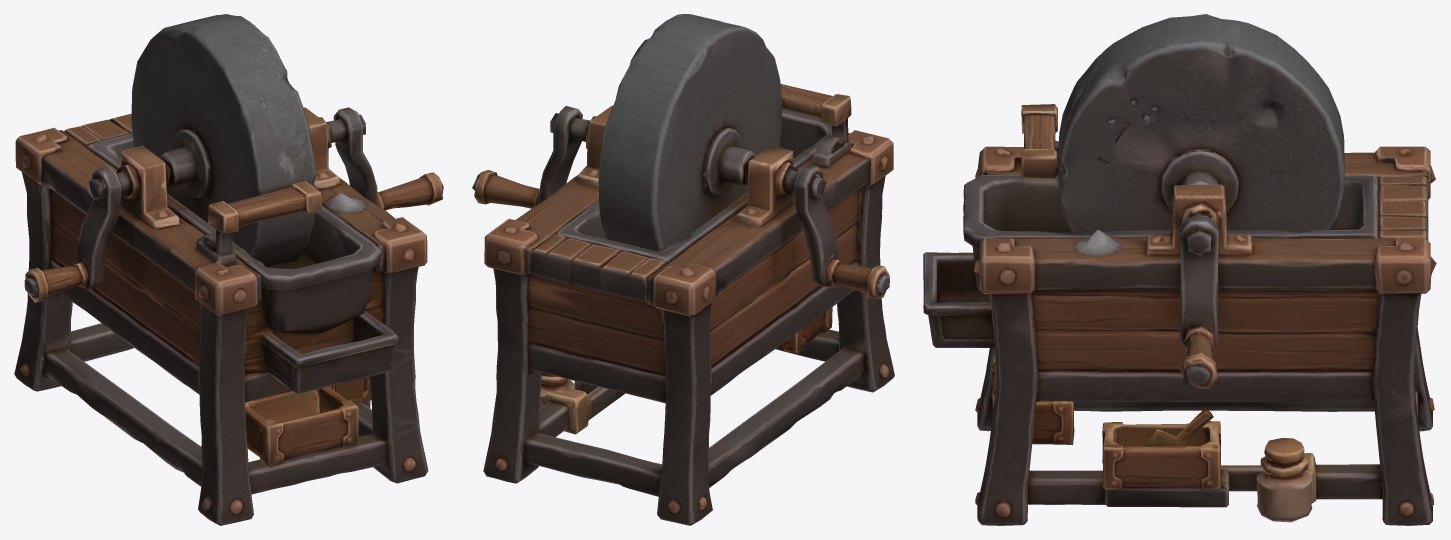
File: Esmeril.fbx
3 renders of one model, left to right at view 1: azimuth 30°, elevation 25°; view 2: azimuth 150°, elevation 25°; view 3: azimuth 270°, elevation 25°, orthographic. The views are drawn at different scales.
Visible parts, largest first — view 1: tripo_node_0558ccd7; view 2: tripo_node_0558ccd7; view 3: tripo_node_0558ccd7.
Part boxes in pixels (bbox=[...]): tripo_node_0558ccd7: bbox=[14, 14, 443, 525]; tripo_node_0558ccd7: bbox=[472, 14, 894, 525]; tripo_node_0558ccd7: bbox=[923, 14, 1436, 525].
Bounding box in the file's own units: 0.9798 × 0.9156 × 0.9605.
